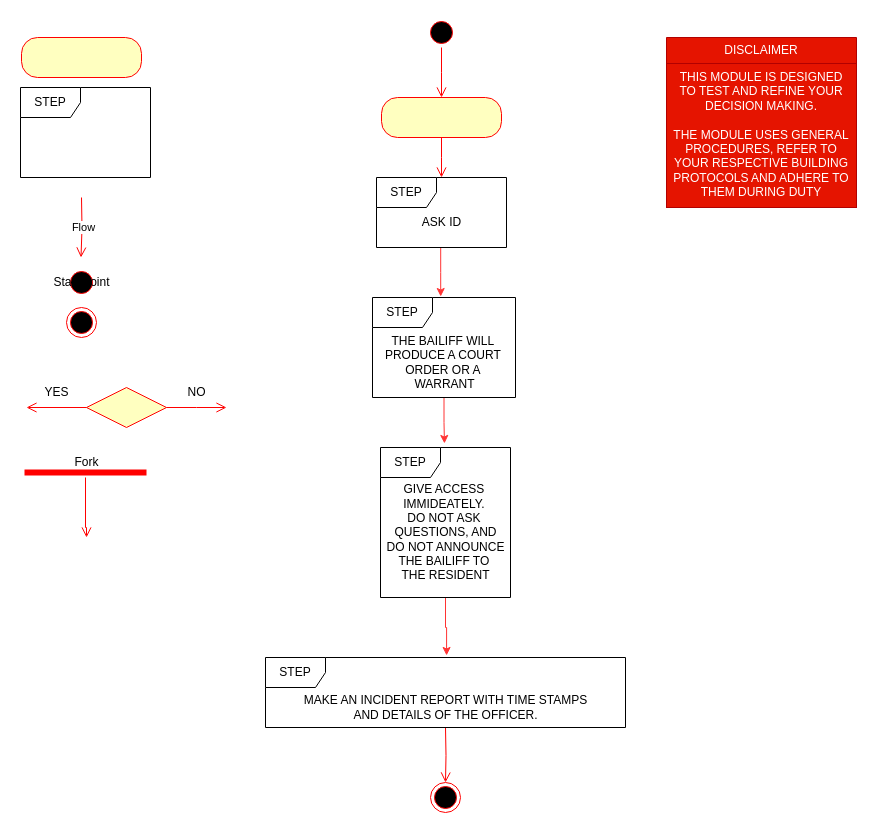
Image size: 874x830. Some labels were removed from this diagram. Here are the shapes that lost their labels. From the top down, the centre of each, then its label:
pixel 81 57: Situation Context
pixel 441 117: COURT BAILIFF IS ON SITE
pixel 81 322: End Point
pixel 126 407: Condition
